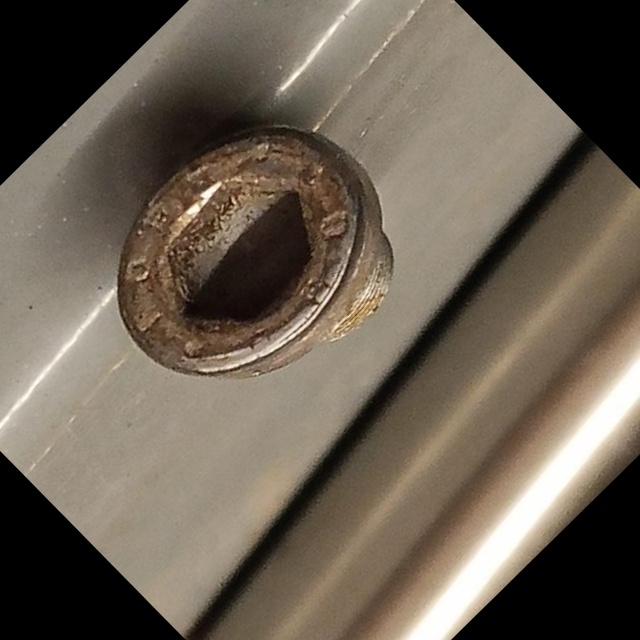allen: (70, 76, 427, 433)
